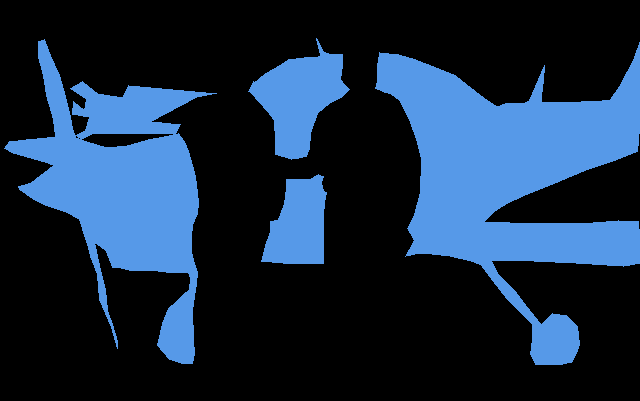Airplane: (4, 38, 640, 364), (70, 81, 216, 139)
